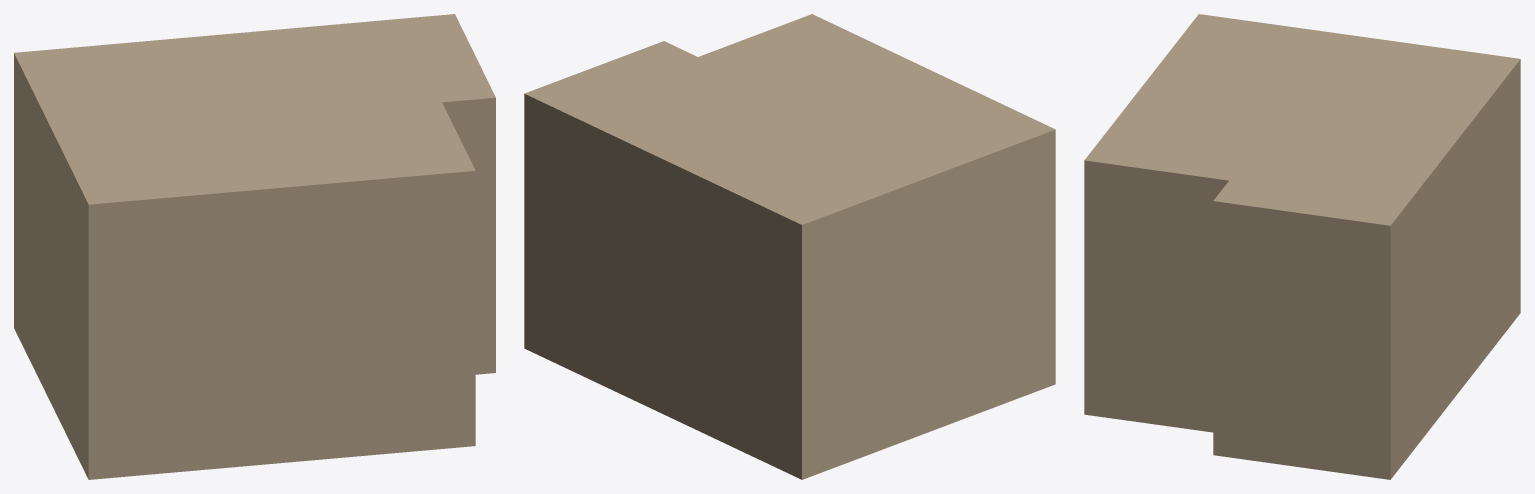
The model's file is bld_101524524.dae.
3 views of the same model, side by side, from view 1: azimuth 30°, elevation 25°; view 2: azimuth 150°, elevation 25°; view 3: azimuth 270°, elevation 25° (orthographic). The views are drawn at different scales.
Parts seen in each view (by area): view 1: bld_101524524; view 2: bld_101524524; view 3: bld_101524524.
Boxes of the visible parts, <box> form: bld_101524524: <box>14,14,495,479</box>; bld_101524524: <box>524,14,1055,479</box>; bld_101524524: <box>1084,14,1520,479</box>.
Bounding box in the file's own units: 14.3 × 12.45 × 8.
